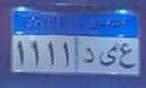1: (29, 39, 42, 68), (60, 40, 71, 69), (46, 39, 57, 67), (16, 38, 26, 67)
ain: (118, 41, 136, 72)
daal: (81, 45, 96, 66)
yaa: (98, 44, 117, 69)
